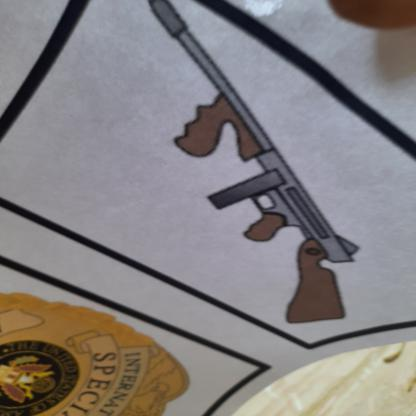Bootlegger: (124, 1, 387, 336)
